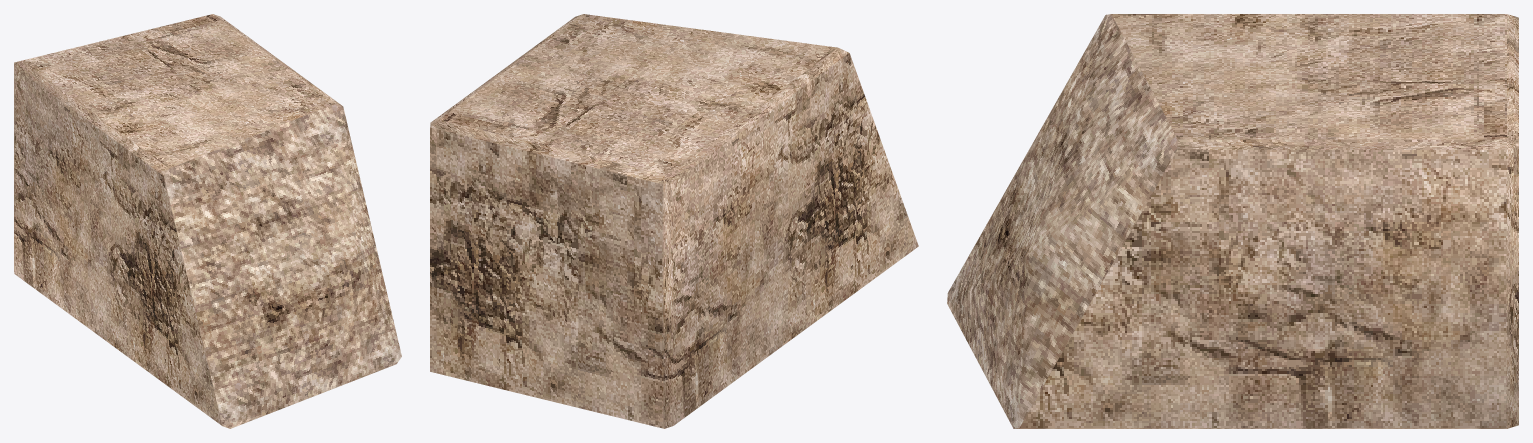
The model's file is stage-dese-p7-17.glb.
3 renders of one model, left to right at view 1: azimuth 30°, elevation 25°; view 2: azimuth 150°, elevation 25°; view 3: azimuth 270°, elevation 25°, orthographic. The views are drawn at different scales.
Size of the model in its own units: 1.69 by 1.69 by 3.02.
Materials: 2 (2 with a texture image).
